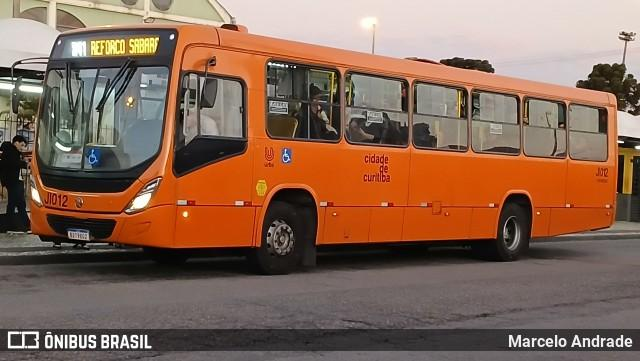REFORCO SABARA: (88, 36, 162, 58)
